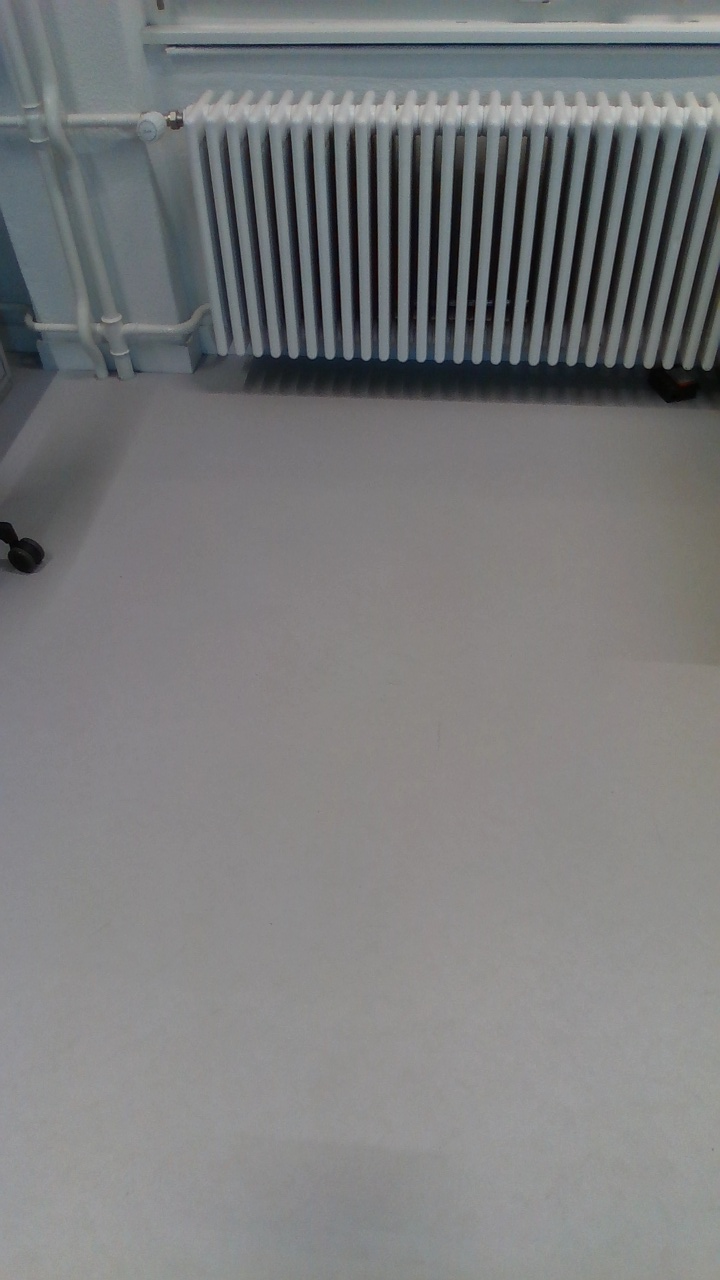Knob_Radiator: (126, 100, 176, 152)
Radiator: (171, 79, 720, 381)
